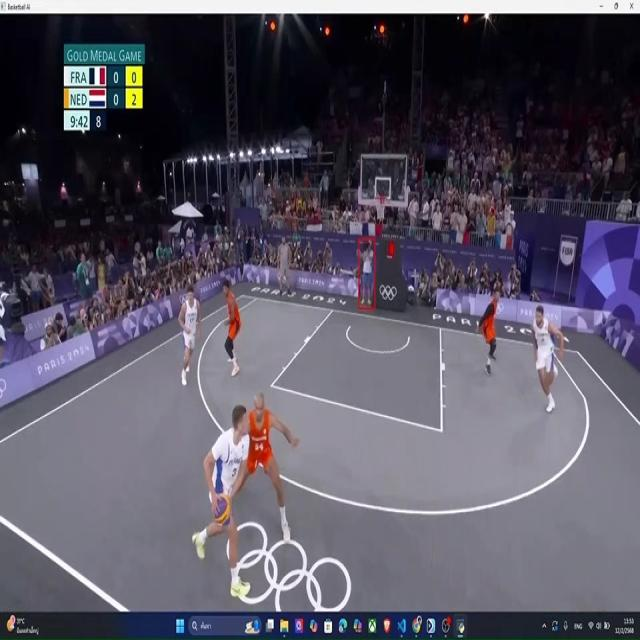basketball: (210, 487, 233, 531)
hoop: (374, 191, 388, 225)
